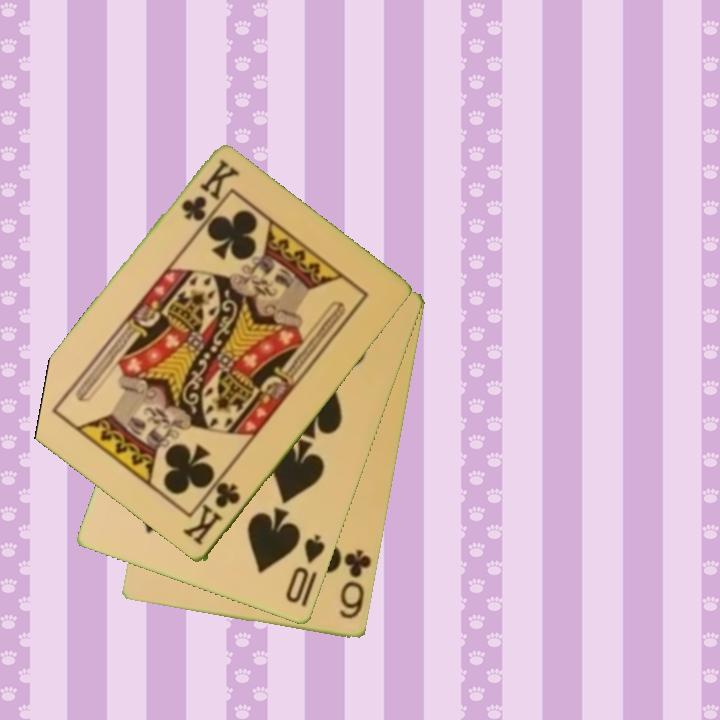10s: (282, 531, 329, 607)
6c: (336, 546, 375, 623)
Kc: (180, 479, 244, 549), (177, 156, 240, 225)
